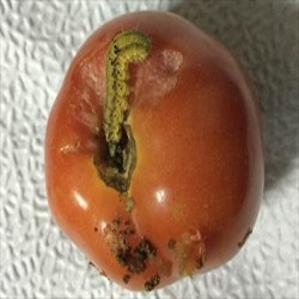Cotton bollworm: (78, 22, 179, 168)
